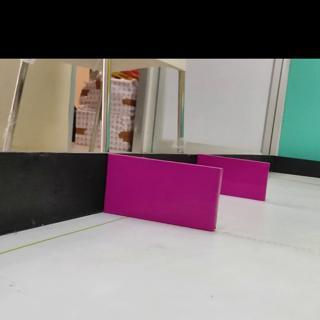xparking: (103, 154, 221, 232), (221, 157, 269, 201)
